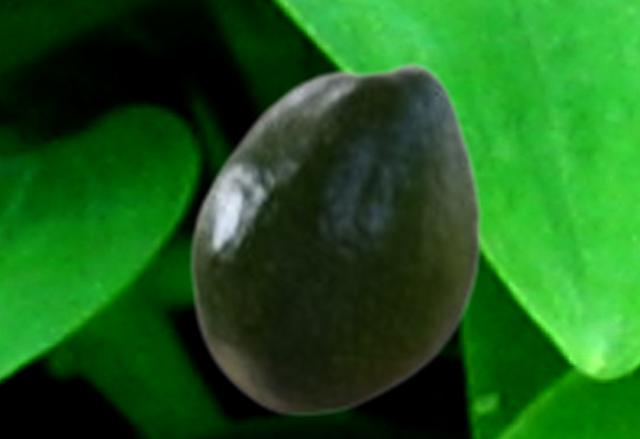avocado: (187, 60, 482, 417)
